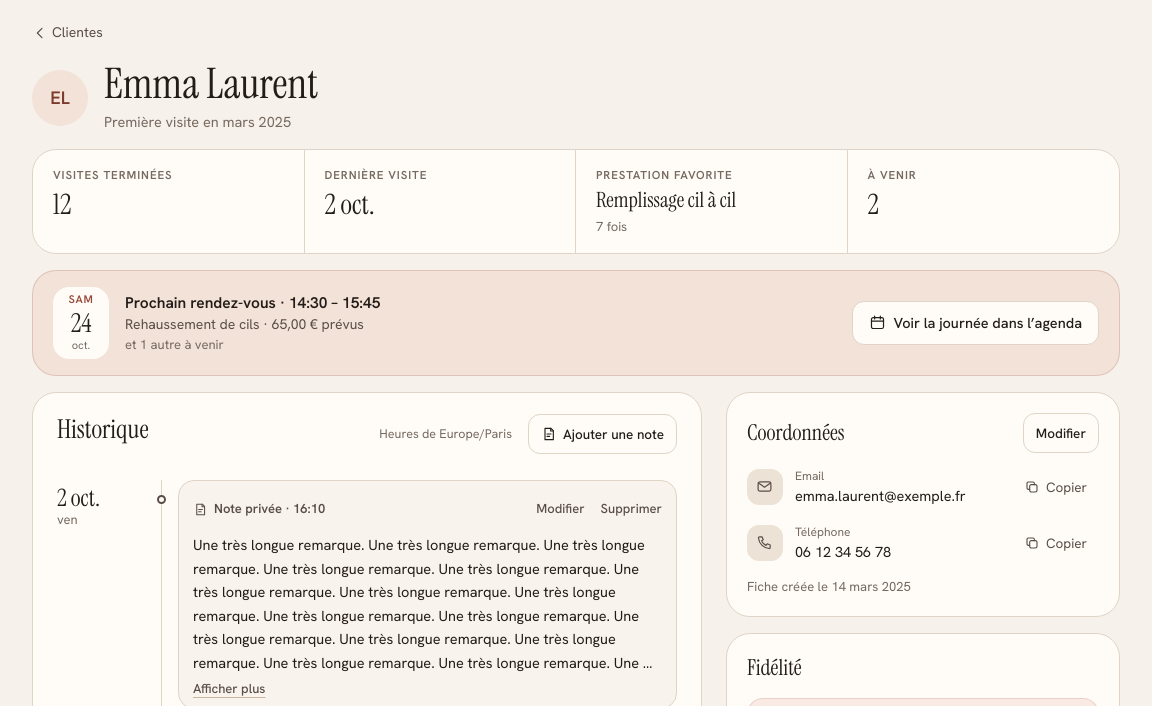
Test case: notes in the relationship timeline › a long note is folded without losing text
What coordinates should you click on to do the following:
click the button "Afficher plus"
I would click on:
 (229, 688)
Its box is [193,678,266,698].
(page scrolled)
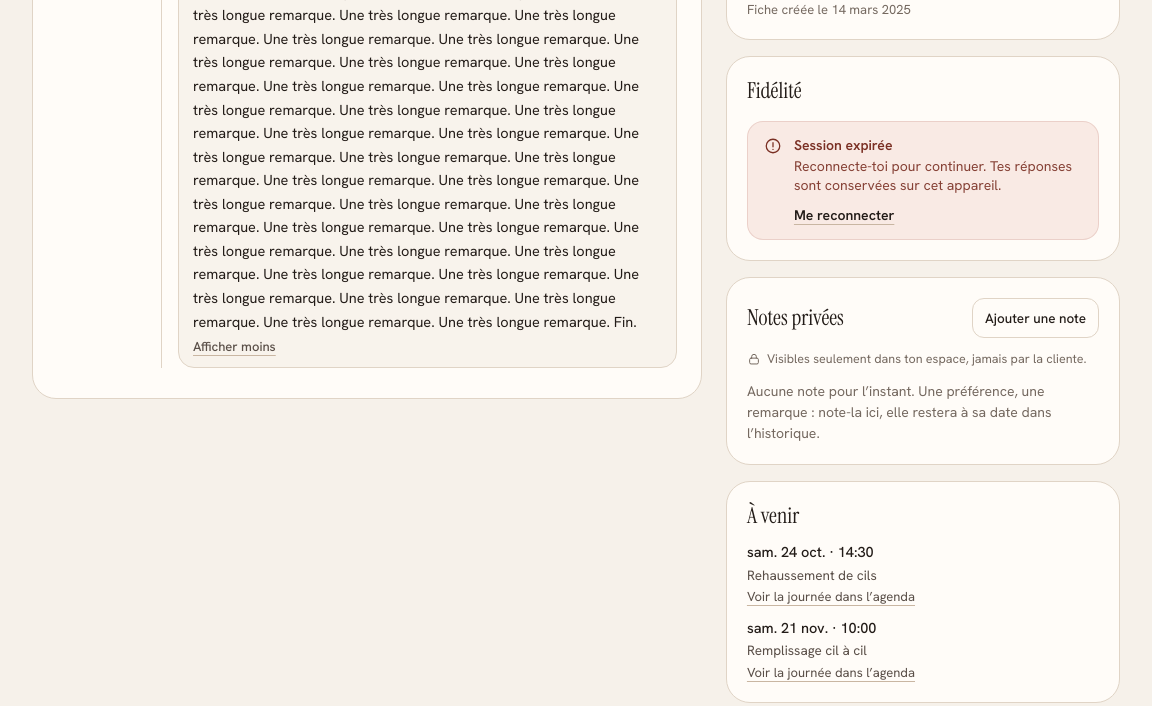
Expected: the button "Afficher moins" is expanded, [193,337,276,357]
